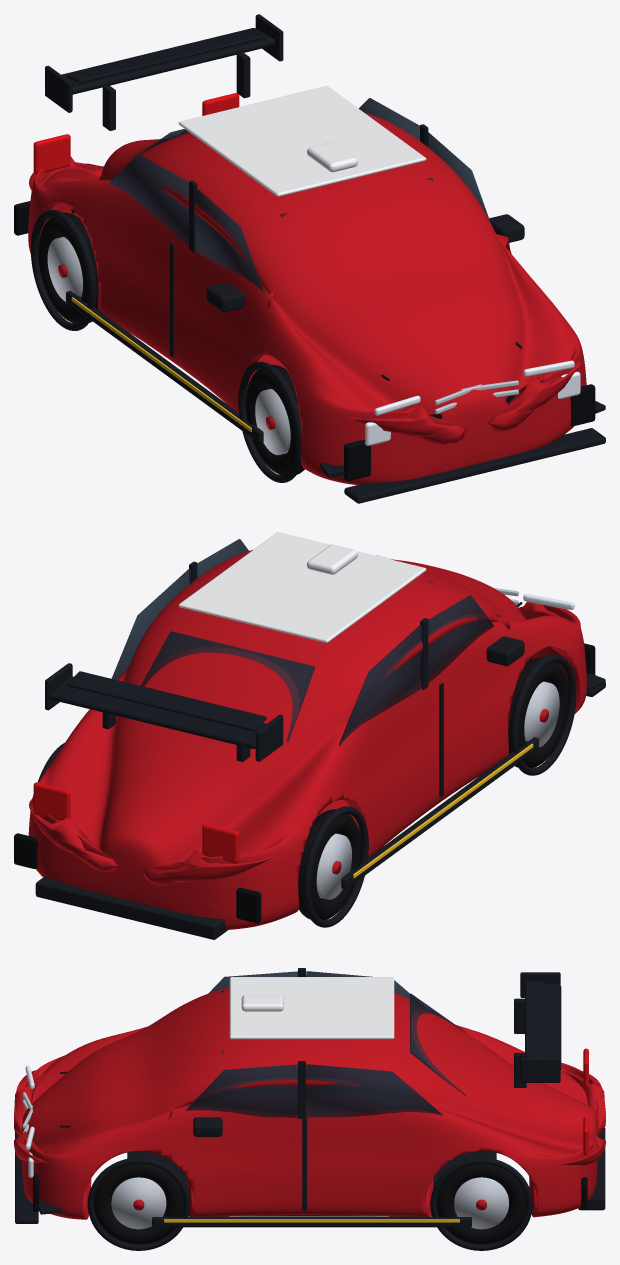
File: mjx7303-v32.glb
3 renders of one model, top to bottom at view 1: azimuth 30°, elevation 25°; view 2: azimuth 150°, elevation 25°; view 3: azimuth 270°, elevation 25°, orthographic. The views are drawn at different scales.
Visible parts, largest first — view 1: BODY_SHELL_V32, RoofPanel, FrontSplitter, RearSideGlass-1, FrontSideGlass-1, RearWingMain, Tire.002, SideSkirt-1, RearWingUpper, Tire.001, FenderLip.002, FenderLip.001 (+13 smaller); view 2: BODY_SHELL_V32, RoofPanel, RearDiffuser, RearWingMain, RearSideGlass-1, RearWingUpper, RearGlass, FrontSideGlass-1, Tire.002, Tire.001, SideSkirt-1, FenderLip.001 (+16 smaller); view 3: BODY_SHELL_V32, RoofPanel, RearSideGlass1, FrontSideGlass1, Tire, Tire.003, SideSkirt1, Rim.002, Rim.003, FenderLip.003, FenderLip, RearWingUpper (+15 smaller).
Part boxes in pixels (left/top/right/bottom): BODY_SHELL_V32: left=28, top=112, right=586, bottom=484; RoofPanel: left=178, top=85, right=426, bottom=196; FrontSplitter: left=344, top=428, right=605, bottom=503; RearSideGlass-1: left=108, top=154, right=188, bottom=245; FrontSideGlass-1: left=195, top=187, right=263, bottom=291; RearWingMain: left=61, top=28, right=275, bottom=94; Tire.002: left=38, top=212, right=98, bottom=323; SideSkirt-1: left=66, top=290, right=263, bottom=442; RearWingUpper: left=67, top=29, right=266, bottom=83; Tire.001: left=245, top=364, right=304, bottom=475; FenderLip.002: left=30, top=209, right=96, bottom=330; FenderLip.001: left=238, top=361, right=301, bottom=482; BODY_SHELL_V32: left=28, top=550, right=586, bottom=929; RoofPanel: left=178, top=532, right=426, bottom=642; RearDiffuser: left=35, top=876, right=227, bottom=939; RearWingMain: left=49, top=676, right=266, bottom=748; RearSideGlass-1: left=338, top=624, right=421, bottom=746; RearWingUpper: left=67, top=671, right=266, bottom=731; RearGlass: left=141, top=631, right=314, bottom=742; FrontSideGlass-1: left=428, top=595, right=494, bottom=682; Tire.002: left=298, top=809, right=361, bottom=919; Tire.001: left=508, top=657, right=568, bottom=767; SideSkirt-1: left=341, top=737, right=538, bottom=889; FenderLip.001: left=510, top=654, right=576, bottom=775; BODY_SHELL_V32: left=14, top=987, right=605, bottom=1219; RoofPanel: left=229, top=977, right=394, bottom=1039; RearSideGlass1: left=306, top=1064, right=442, bottom=1117; FrontSideGlass1: left=185, top=1064, right=297, bottom=1117; Tire: left=436, top=1157, right=526, bottom=1244; Tire.003: left=94, top=1157, right=183, bottom=1244; SideSkirt1: left=152, top=1216, right=471, bottom=1227; Rim.002: left=111, top=1177, right=166, bottom=1229; Rim.003: left=454, top=1177, right=508, bottom=1229; FenderLip.003: left=87, top=1157, right=189, bottom=1250; FenderLip: left=430, top=1157, right=532, bottom=1250; RearWingUpper: left=525, top=980, right=546, bottom=1057.
Size of the model in its own units: 3.16 by 2.37 by 6.48.
